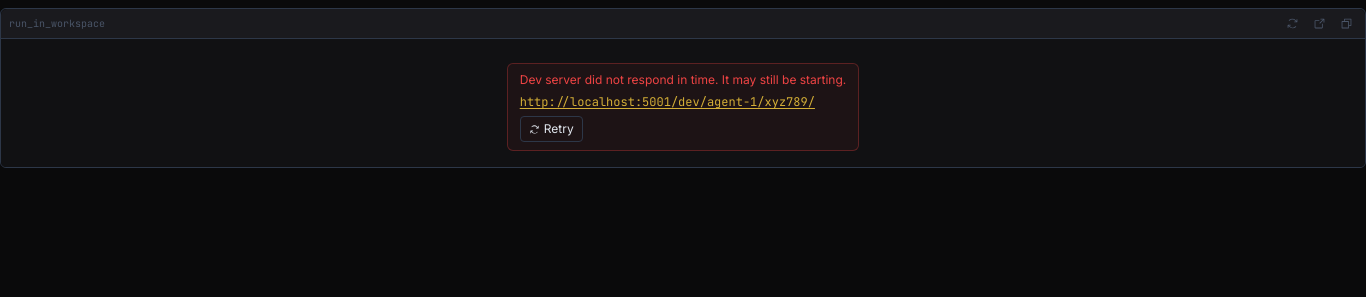
Test: IframePreview — warmup polling (FR-013 / FR-014 / MN-02) › retry button resets warmup state machine
// Click retry
Click the button with aria-label "retry warmup" at (551, 129), box [520,116,583,142]
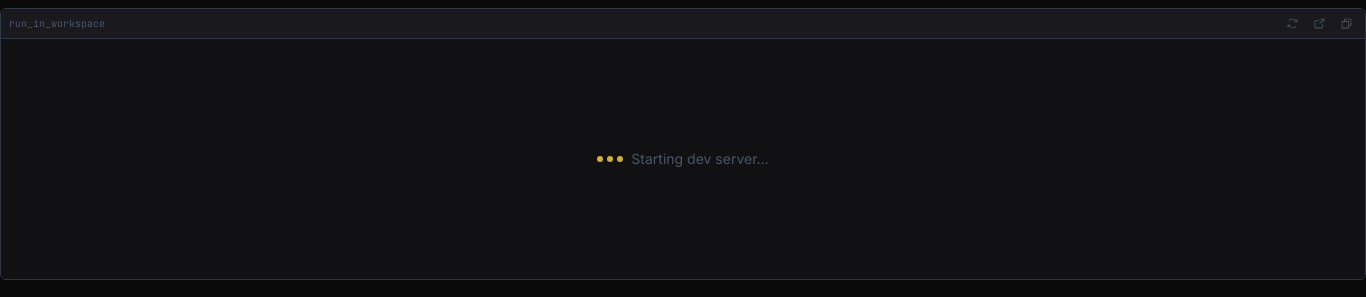
Now the text "Starting dev server…" is shown, box [631,149,769,169]
